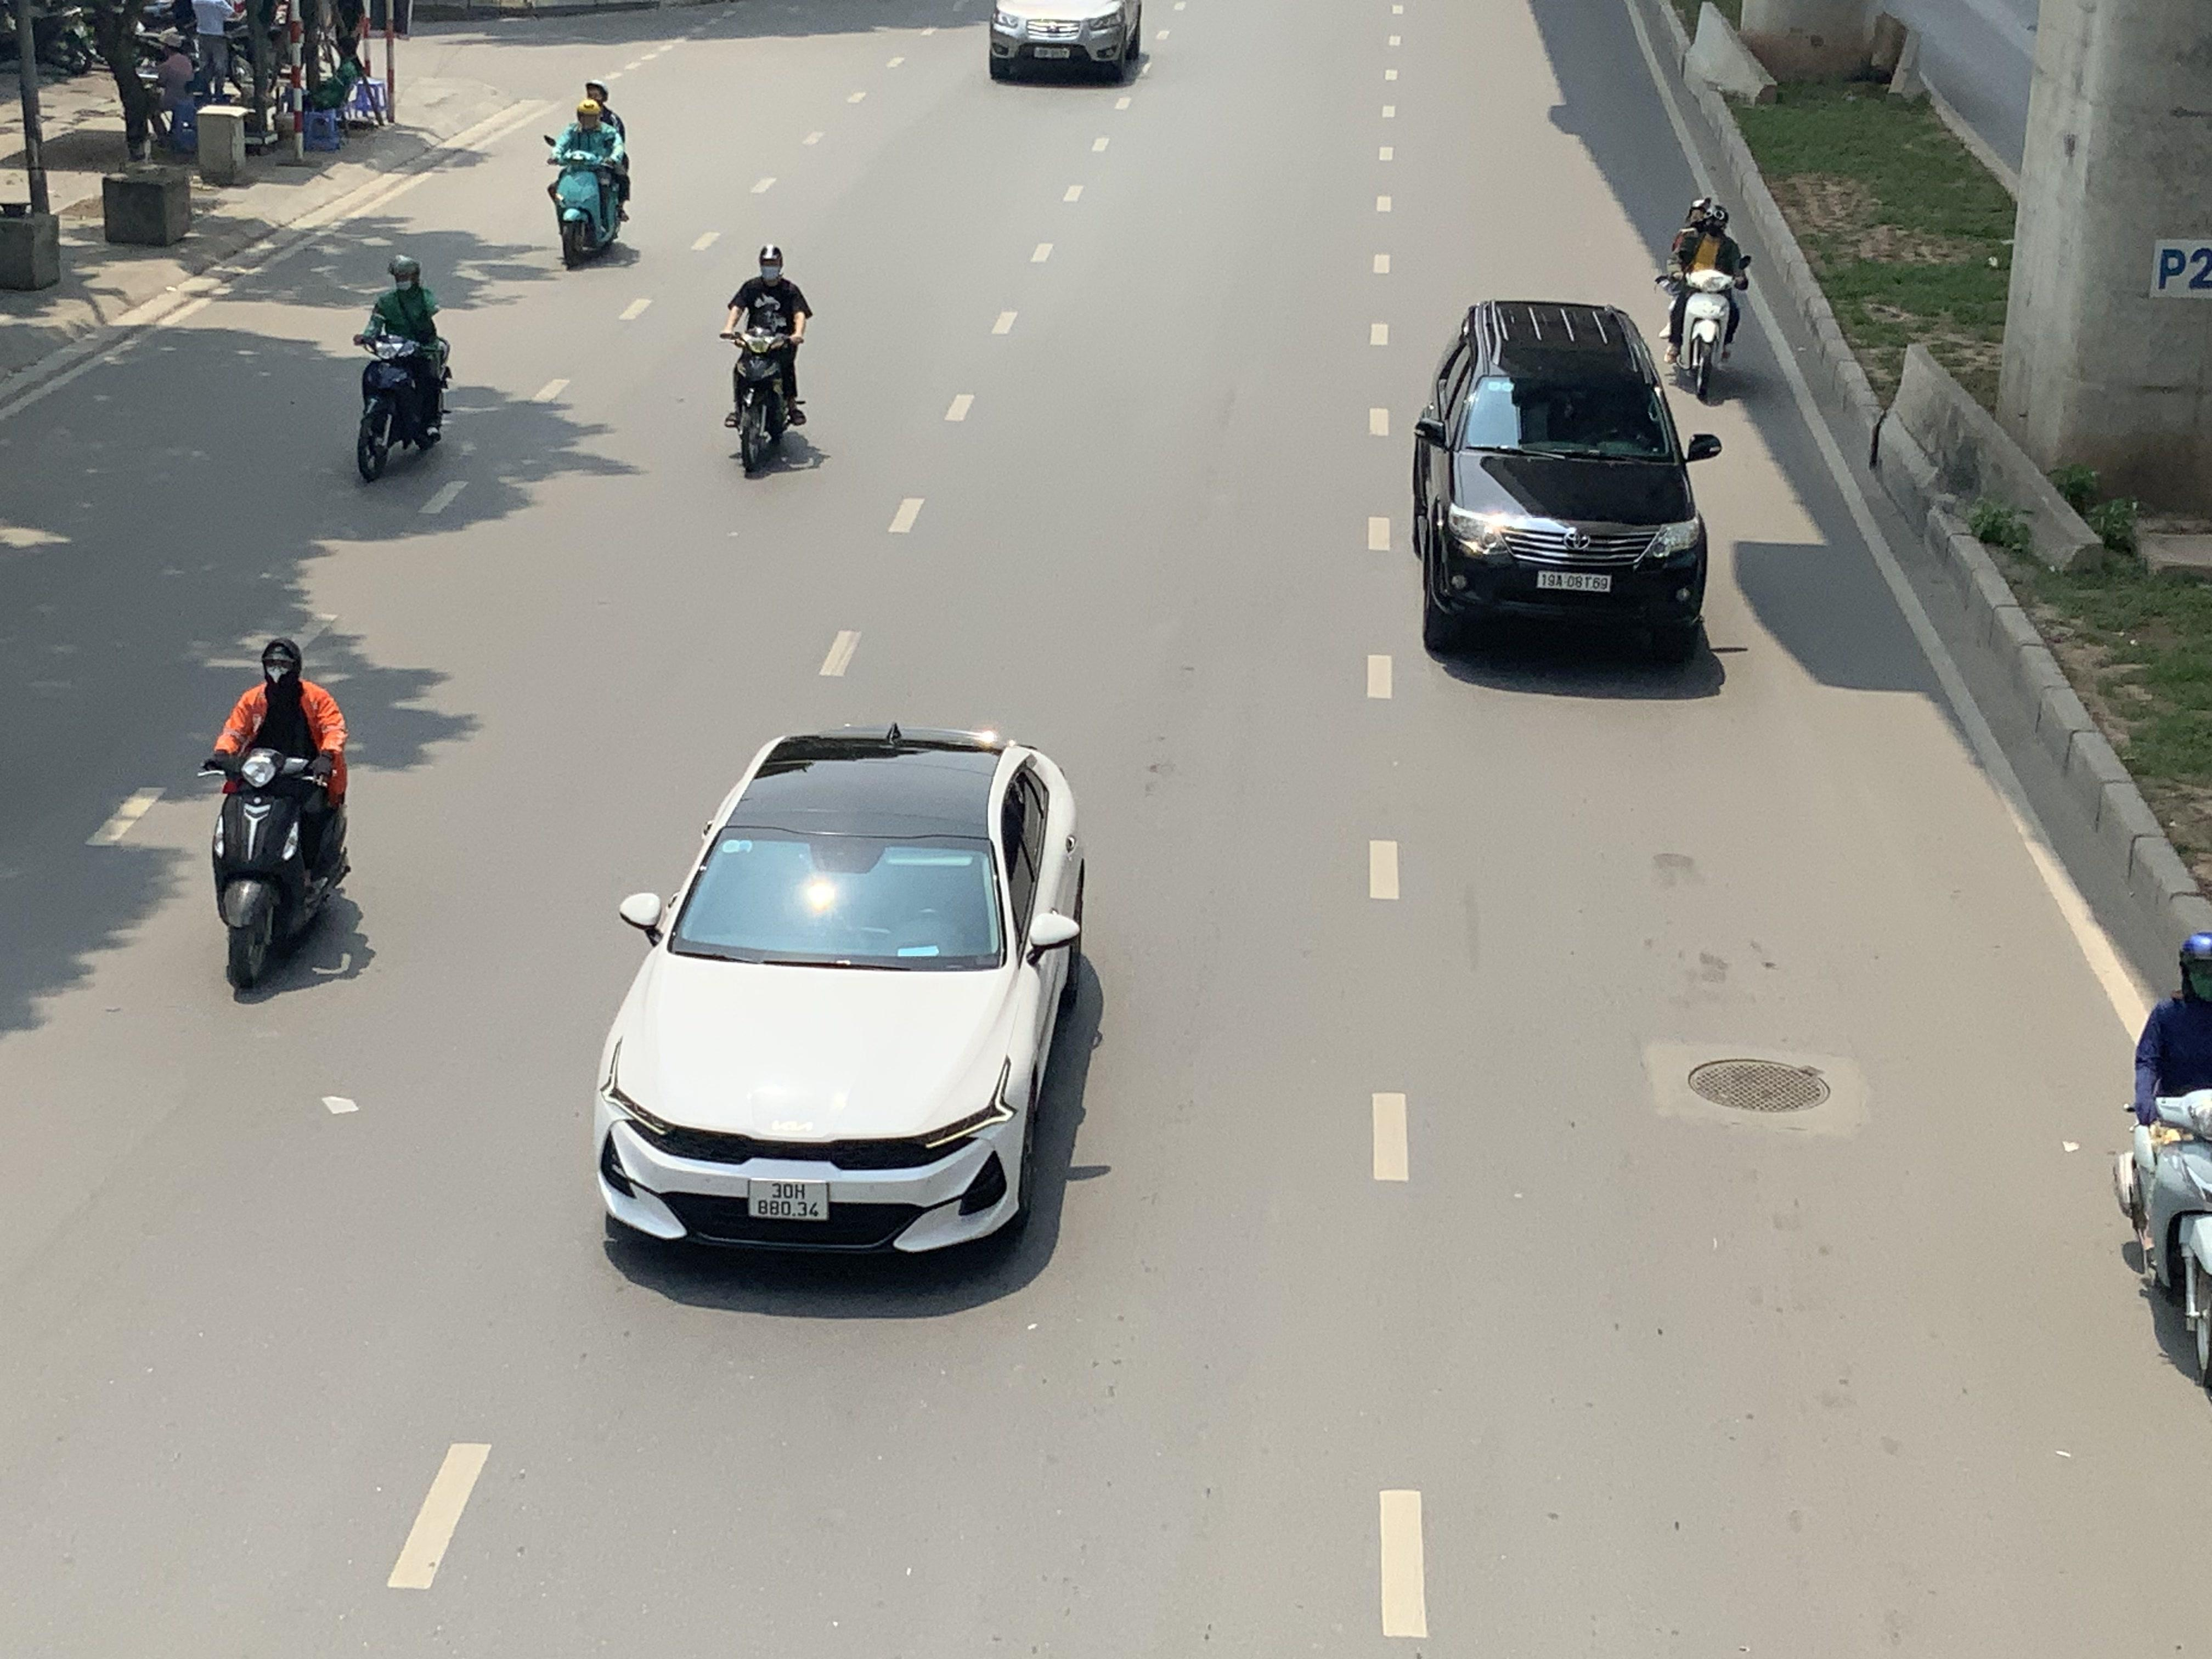BSD: (1538, 572, 1611, 591)
BSV: (747, 1180, 829, 1220)
car: (594, 721, 1101, 1270), (1407, 298, 1723, 662)
motorbike: (204, 636, 354, 1002), (2113, 927, 2212, 1410), (354, 256, 453, 486), (721, 244, 810, 477), (1658, 197, 1750, 404), (545, 82, 632, 272)
